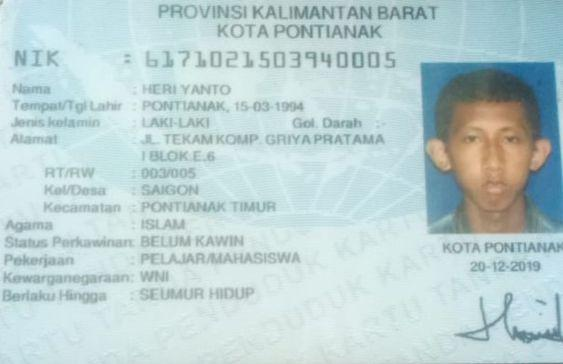ID-card: (3, 3, 562, 358)
